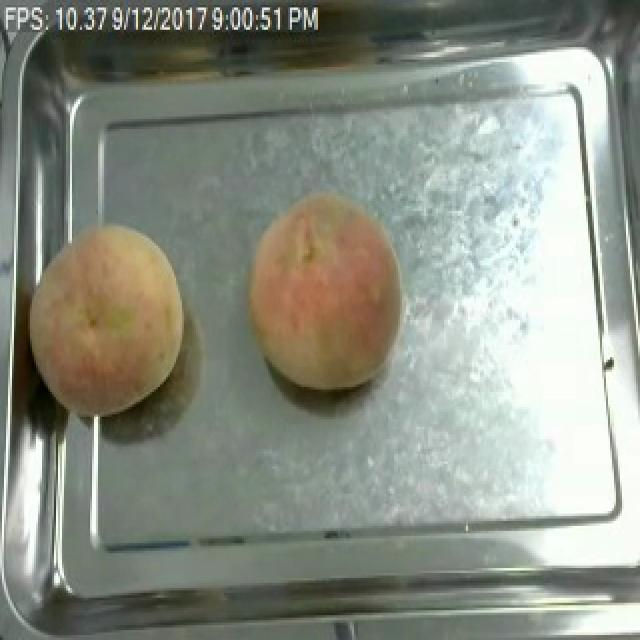Fruit: (236, 181, 416, 399), (16, 211, 192, 427)
